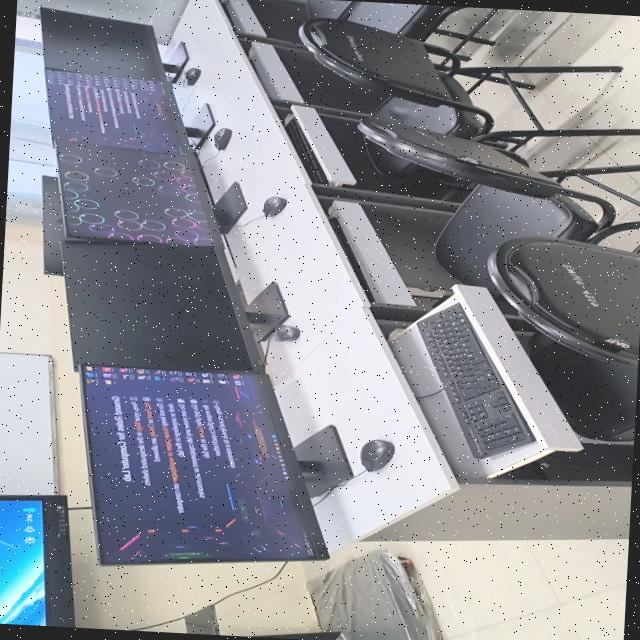Chair: (358, 112, 640, 287), (298, 19, 640, 146), (486, 236, 640, 441), (340, 1, 498, 55), (305, 0, 355, 18)
Cpu: (500, 444, 634, 481)
Digital board: (0, 495, 437, 640)
Keyboard: (414, 303, 529, 457)
Monitor: (78, 365, 352, 566), (60, 240, 287, 372), (53, 141, 245, 246), (45, 69, 213, 154), (40, 8, 187, 83), (41, 176, 64, 276)
Mouse: (359, 439, 393, 472), (261, 196, 285, 217), (273, 324, 299, 342), (213, 128, 231, 150), (183, 68, 200, 86)
